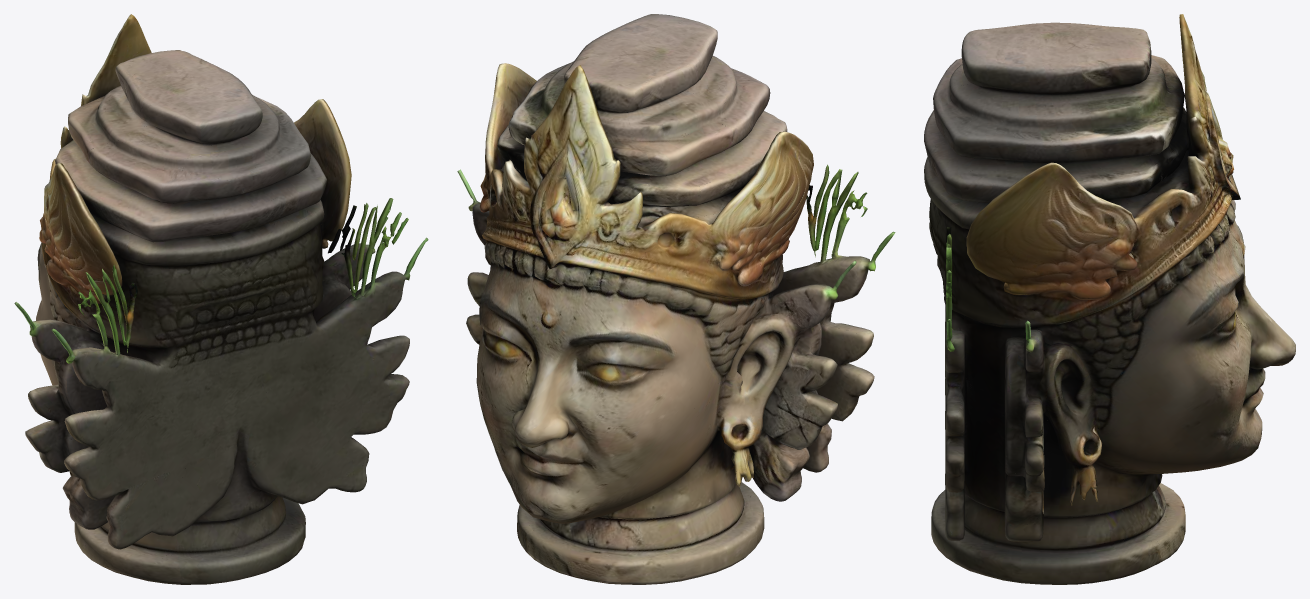
The model's file is dewi-padi.glb.
3 views of the same model, side by side, from view 1: azimuth 30°, elevation 25°; view 2: azimuth 150°, elevation 25°; view 3: azimuth 270°, elevation 25° (orthographic). The views are drawn at different scales.
Visible parts, largest first — view 1: dewi-padi; view 2: dewi-padi; view 3: dewi-padi.
Part boxes in pixels (x1,y1,x2,y2): dewi-padi: (14, 14, 428, 584); dewi-padi: (457, 14, 895, 584); dewi-padi: (924, 14, 1295, 584).
Size of the model in its own units: 0.8194 by 1 by 0.6484.
Materials: 1 (1 with a texture image).
